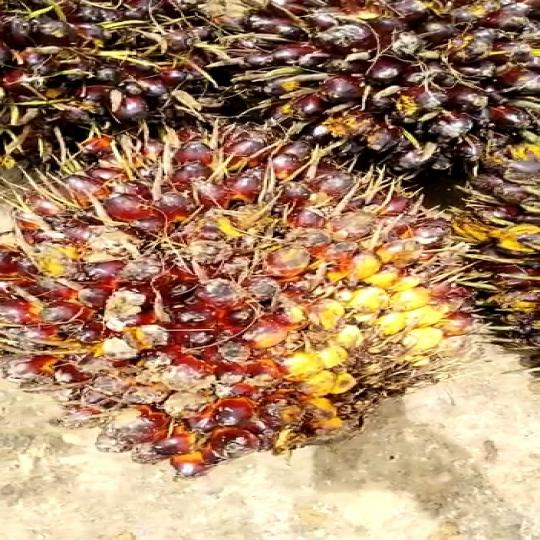kurang masak: (13, 118, 473, 472)
